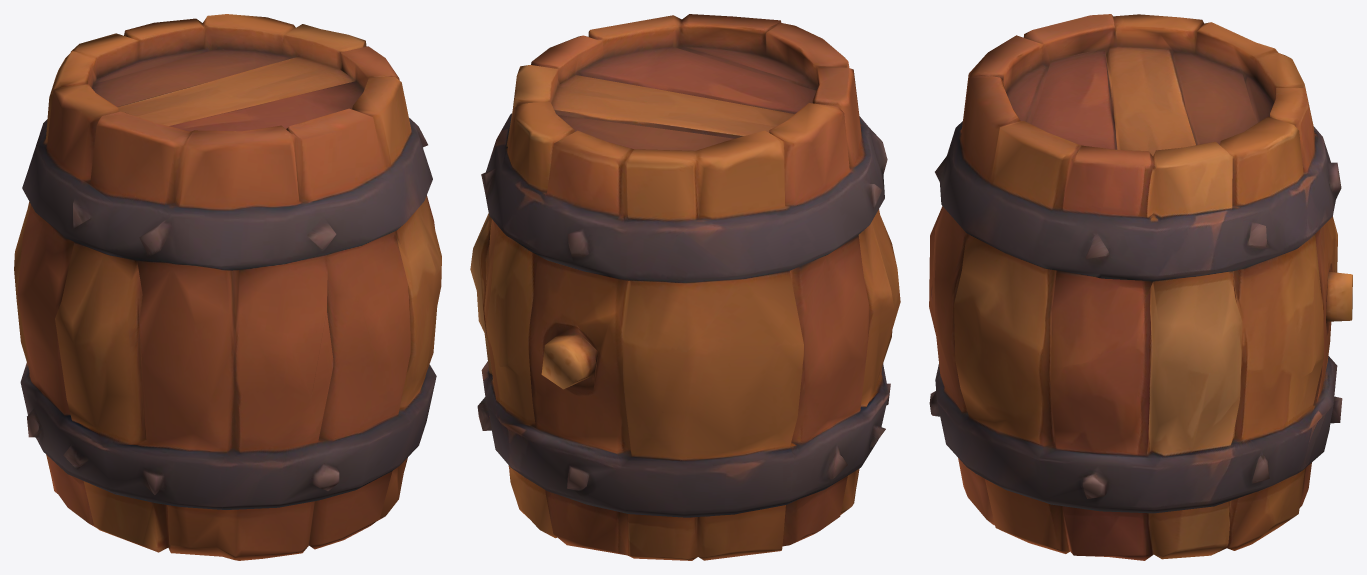
Rendered from barrel.glb.
3 renders of one model, left to right at view 1: azimuth 30°, elevation 25°; view 2: azimuth 150°, elevation 25°; view 3: azimuth 270°, elevation 25°, orthographic.
Visible parts, largest first — view 1: tripo_node_a3c7bca7-a8e1-465e-b5db-cf3d3f4d9ef2; view 2: tripo_node_a3c7bca7-a8e1-465e-b5db-cf3d3f4d9ef2; view 3: tripo_node_a3c7bca7-a8e1-465e-b5db-cf3d3f4d9ef2.
Boxes of the visible parts, x1=… form: tripo_node_a3c7bca7-a8e1-465e-b5db-cf3d3f4d9ef2: x1=14, y1=14, x2=441, y2=560; tripo_node_a3c7bca7-a8e1-465e-b5db-cf3d3f4d9ef2: x1=470, y1=14, x2=900, y2=560; tripo_node_a3c7bca7-a8e1-465e-b5db-cf3d3f4d9ef2: x1=929, y1=14, x2=1352, y2=560.
Size of the model in its own units: 0.8212 by 0.9 by 0.8295.
Materials: 1 (1 with a texture image).
